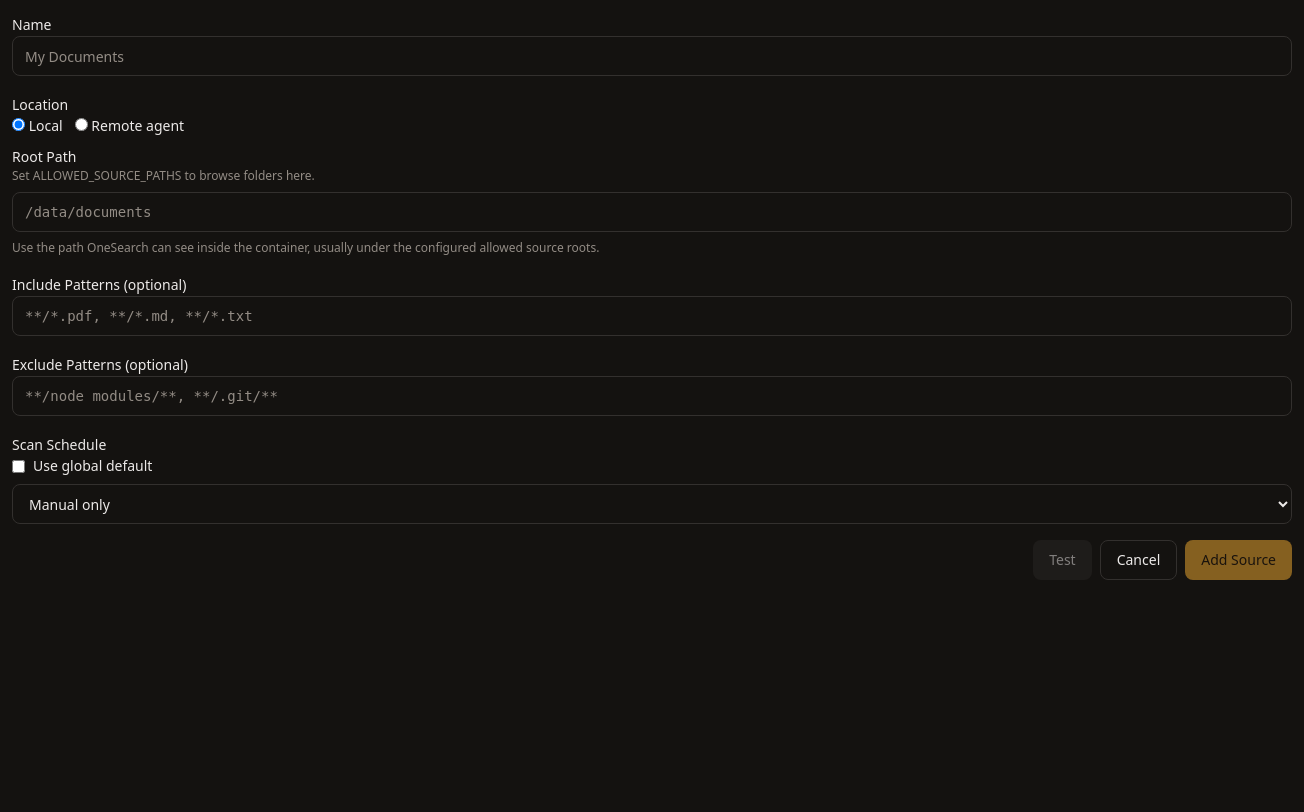
Test: SourceForm remote source flow › lets a new path test supersede a pending request and only accepts the newest result
Type "/data/a" into the field labelled "Root Path" at (652, 212), box [12,192,1292,232]
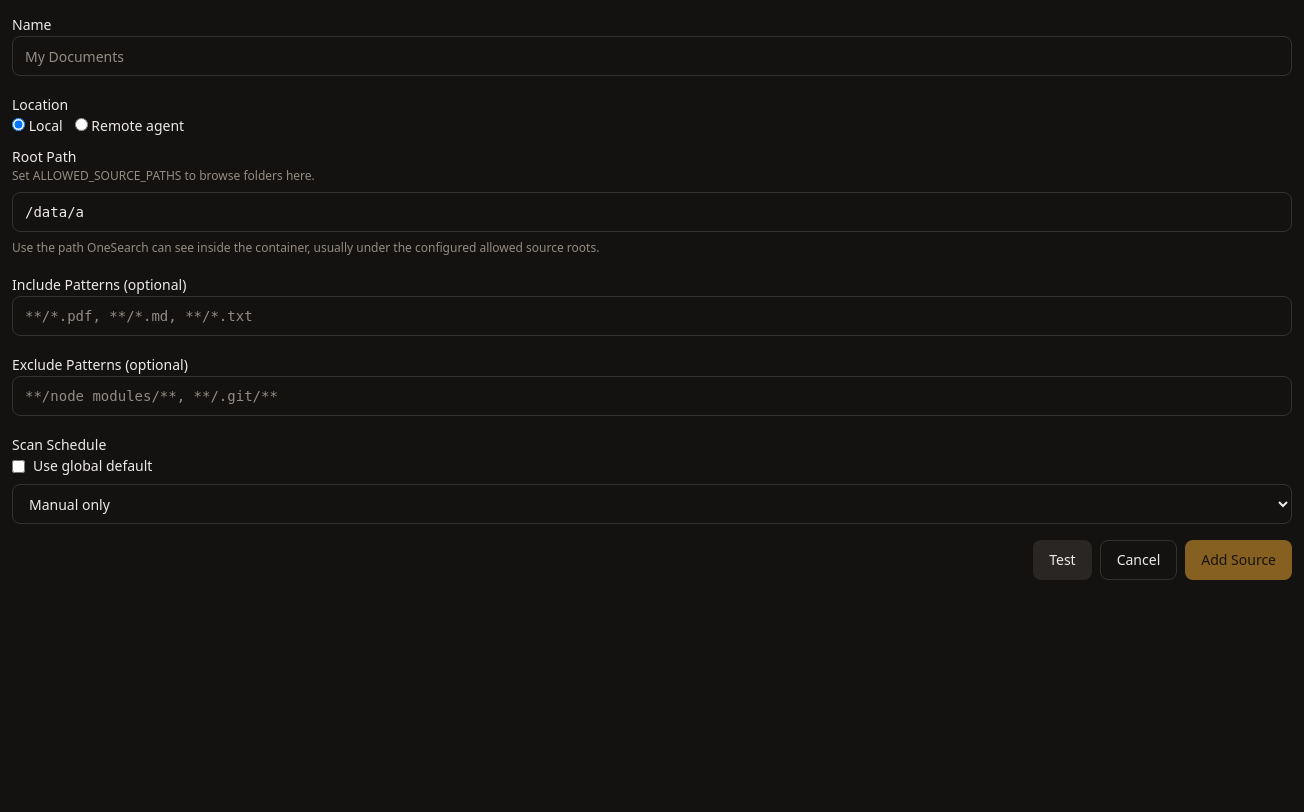
Click the button "Test" at (1062, 560), box [1033,540,1092,580]
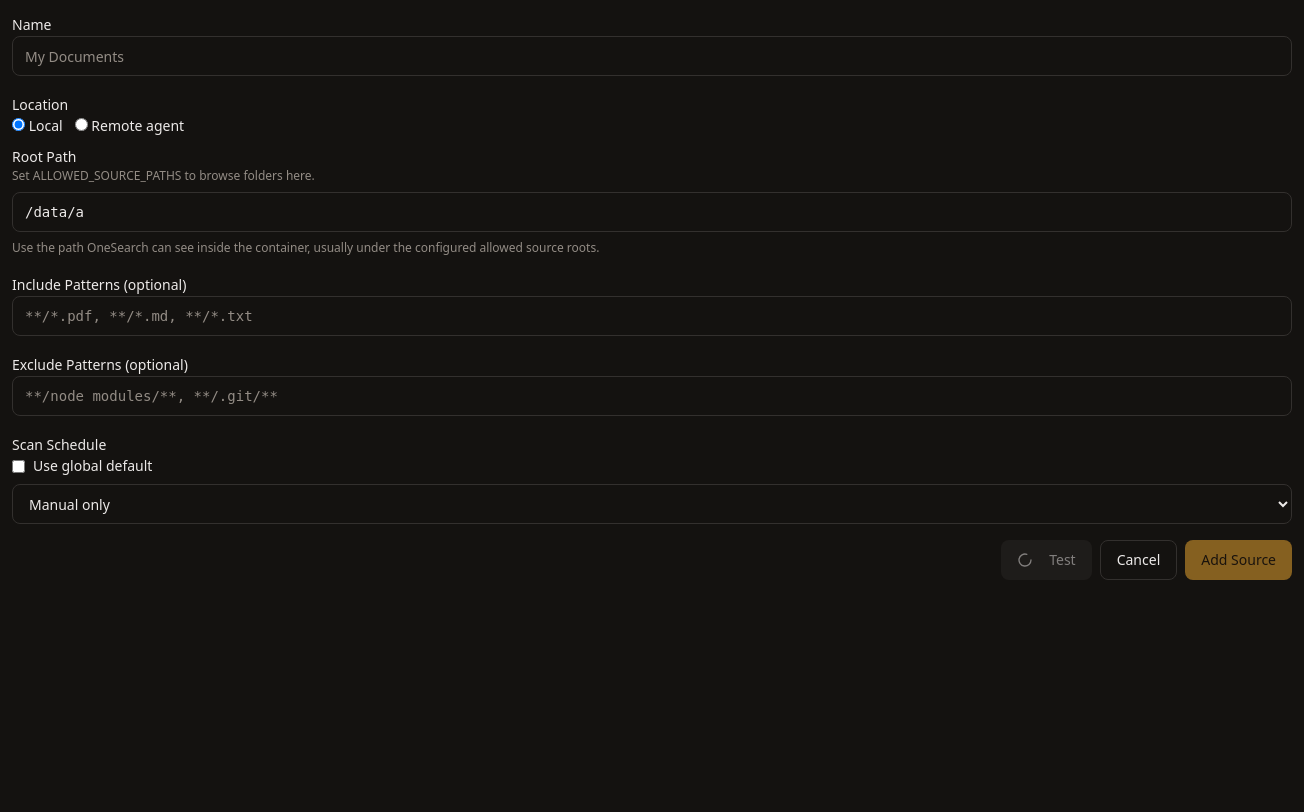
Replace the text in the field labelled "Root Path" with "/data/b" at (652, 212), box [12,192,1292,232]
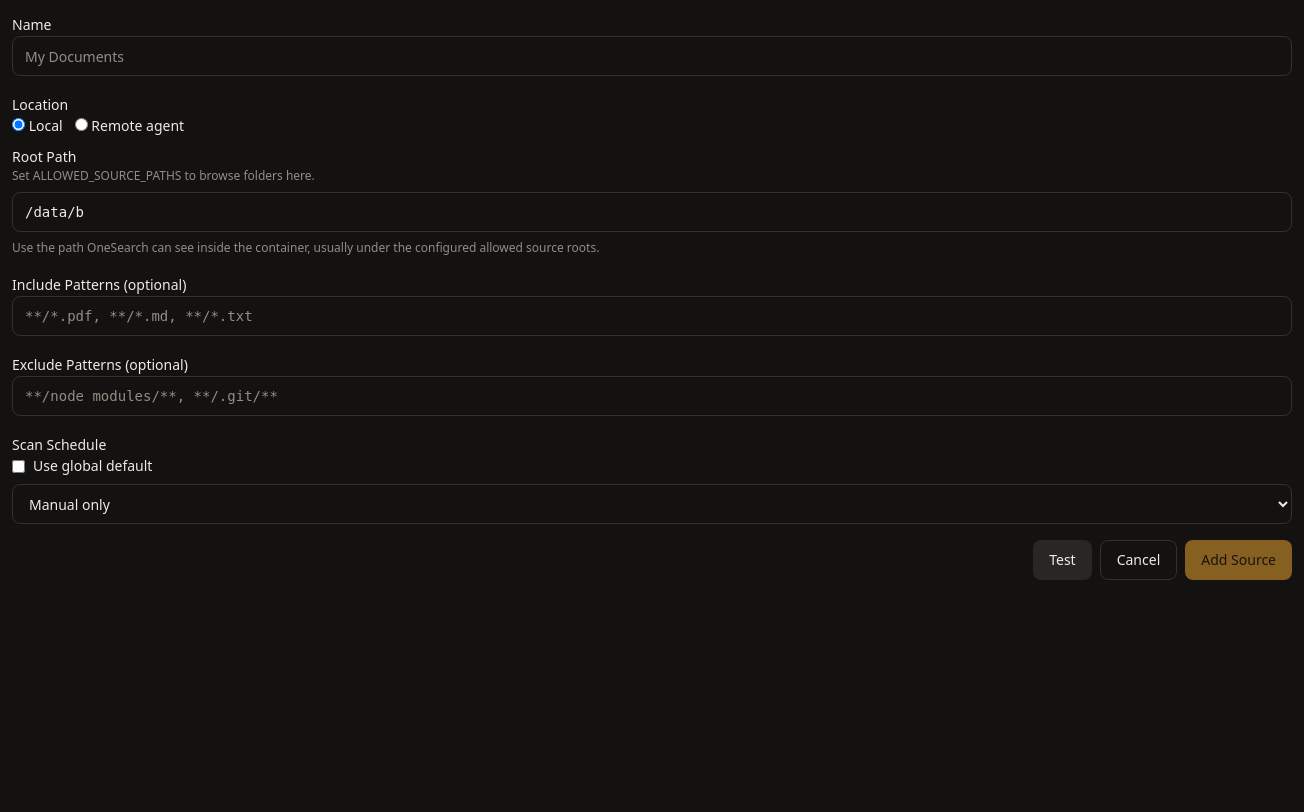
Check: the button "Test" is enabled
Click the button "Test" at (1062, 560), box [1033,540,1092,580]
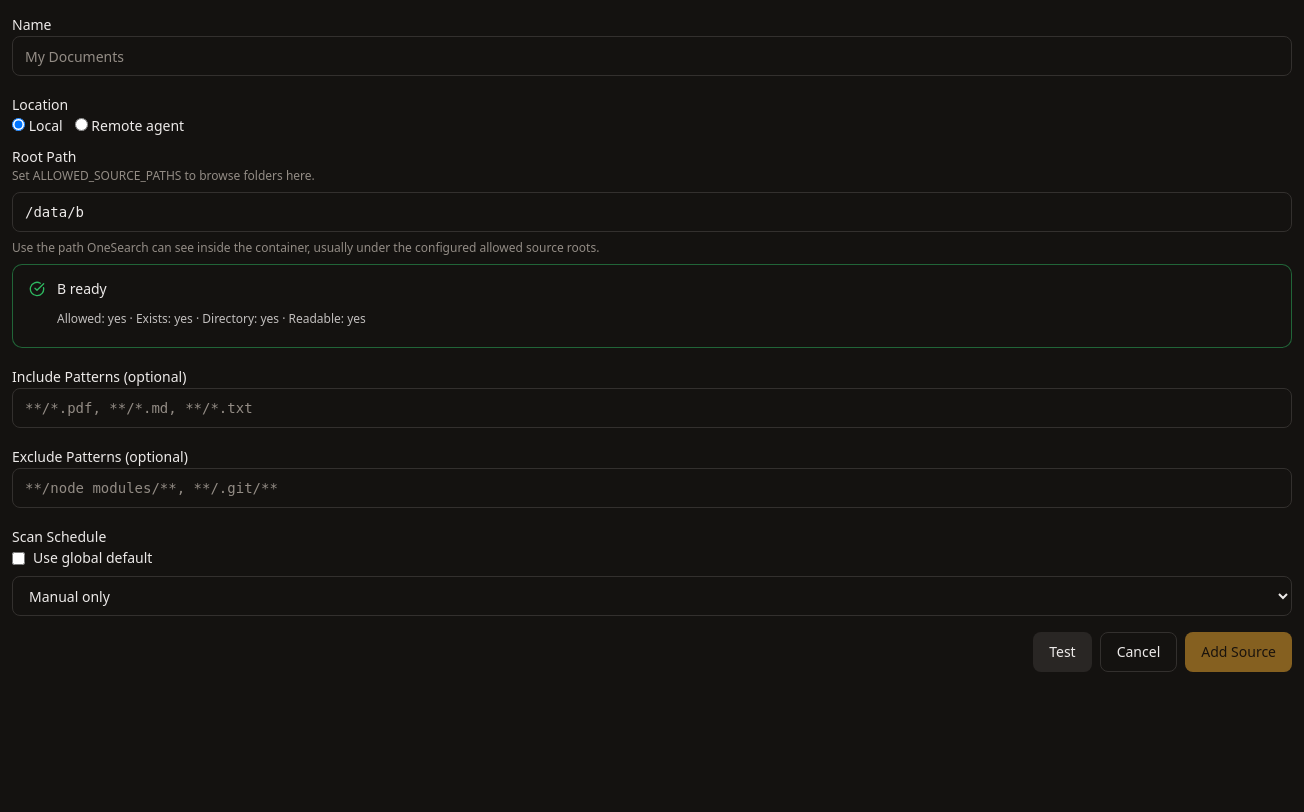
Check: the message shows "B ready", box [57,279,107,298]
